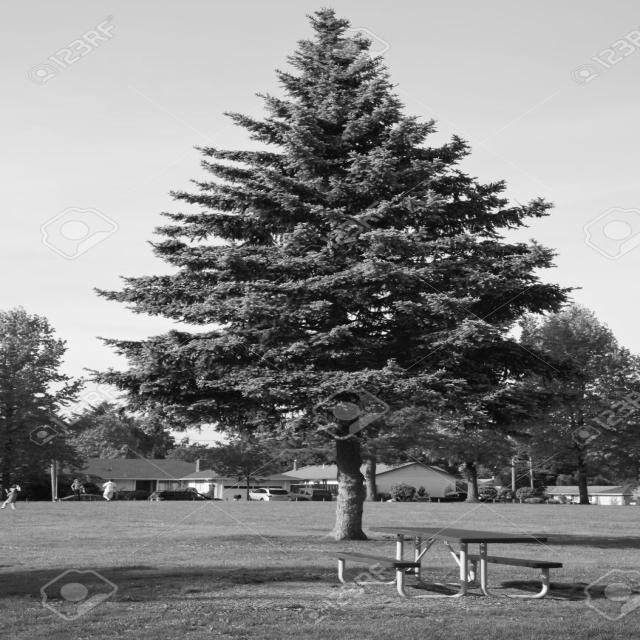pino: (106, 4, 602, 538)
